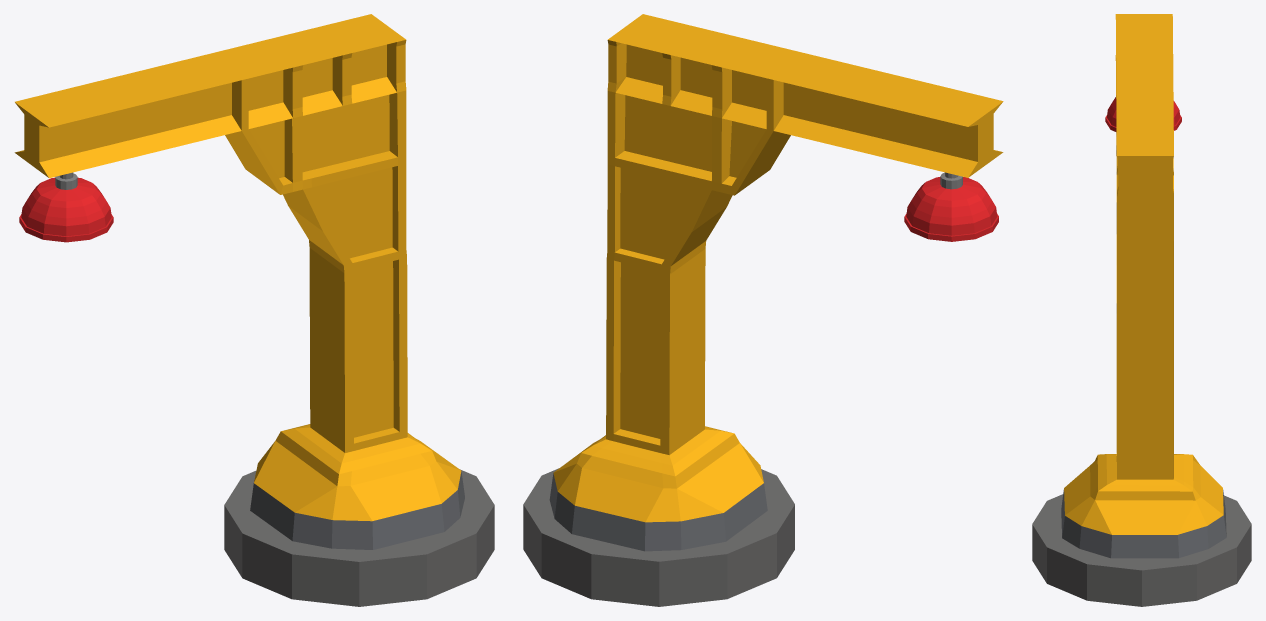
File: Cranesucc.fbx
The picture shows the model from 3 angles, left to right: view 1: azimuth 30°, elevation 25°; view 2: azimuth 150°, elevation 25°; view 3: azimuth 270°, elevation 25°; orthographic projection. The views are drawn at different scales.
Visible parts, largest first — view 1: Cylinder, Cylinder.001, Cylinder.005; view 2: Cylinder, Cylinder.001, Cylinder.005; view 3: Cylinder, Cylinder.001, Cylinder.005.
Part boxes in pixels (x1,y1,x2,y2): Cylinder: [14, 14, 464, 549]; Cylinder.001: [224, 469, 494, 606]; Cylinder.005: [19, 173, 113, 242]; Cylinder: [549, 14, 1003, 551]; Cylinder.001: [523, 468, 794, 606]; Cylinder.005: [904, 172, 998, 241]; Cylinder: [1061, 14, 1226, 558]; Cylinder.001: [1032, 494, 1251, 606]; Cylinder.005: [1105, 97, 1181, 131].
Size of the model in its own units: 552 by 602 by 287.
